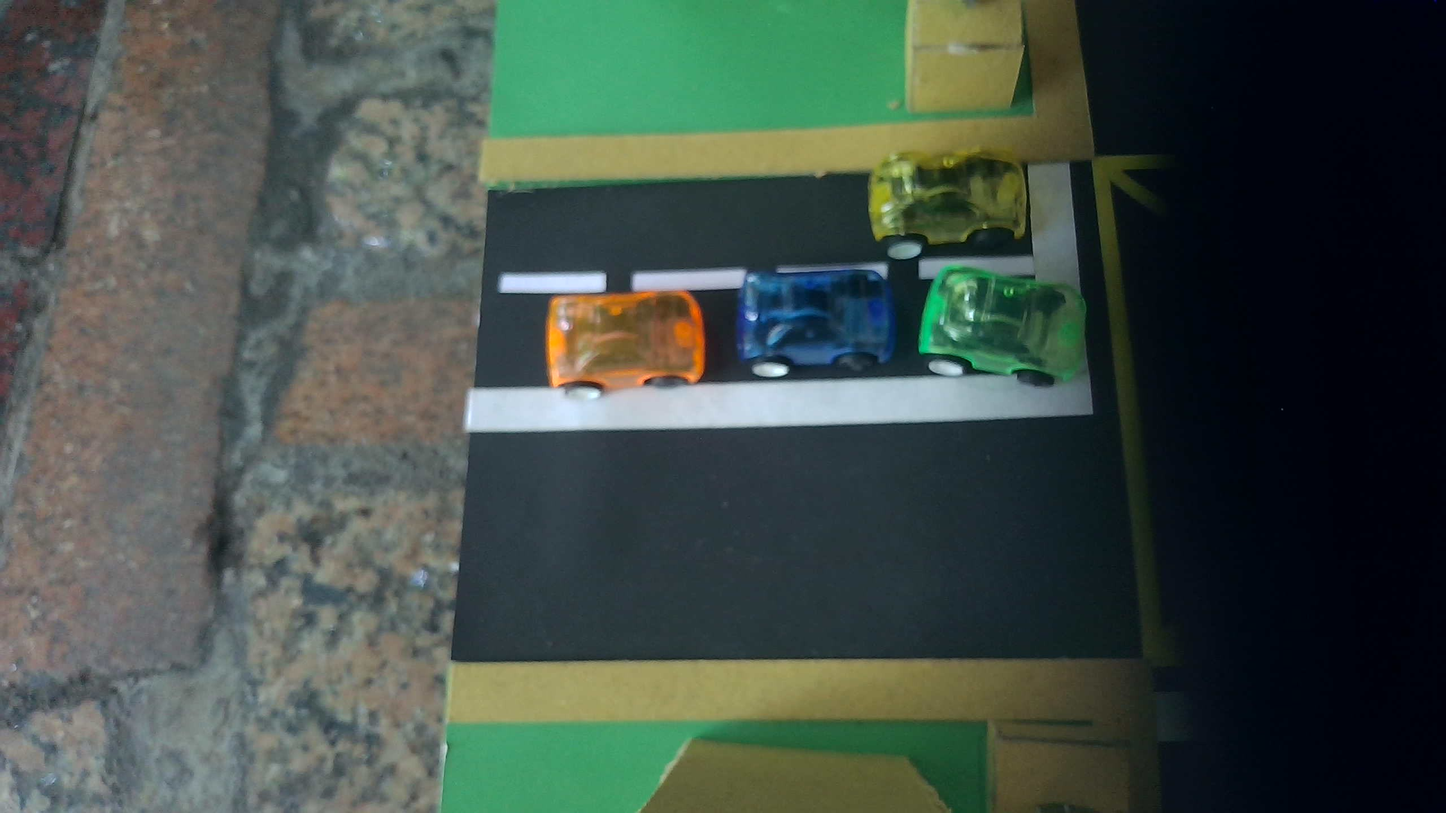Mobil biru: (736, 268, 896, 377)
Mobil hijau: (918, 265, 1086, 386)
Mobil kuning: (869, 149, 1028, 259)
Mobil orange: (546, 291, 705, 399)
